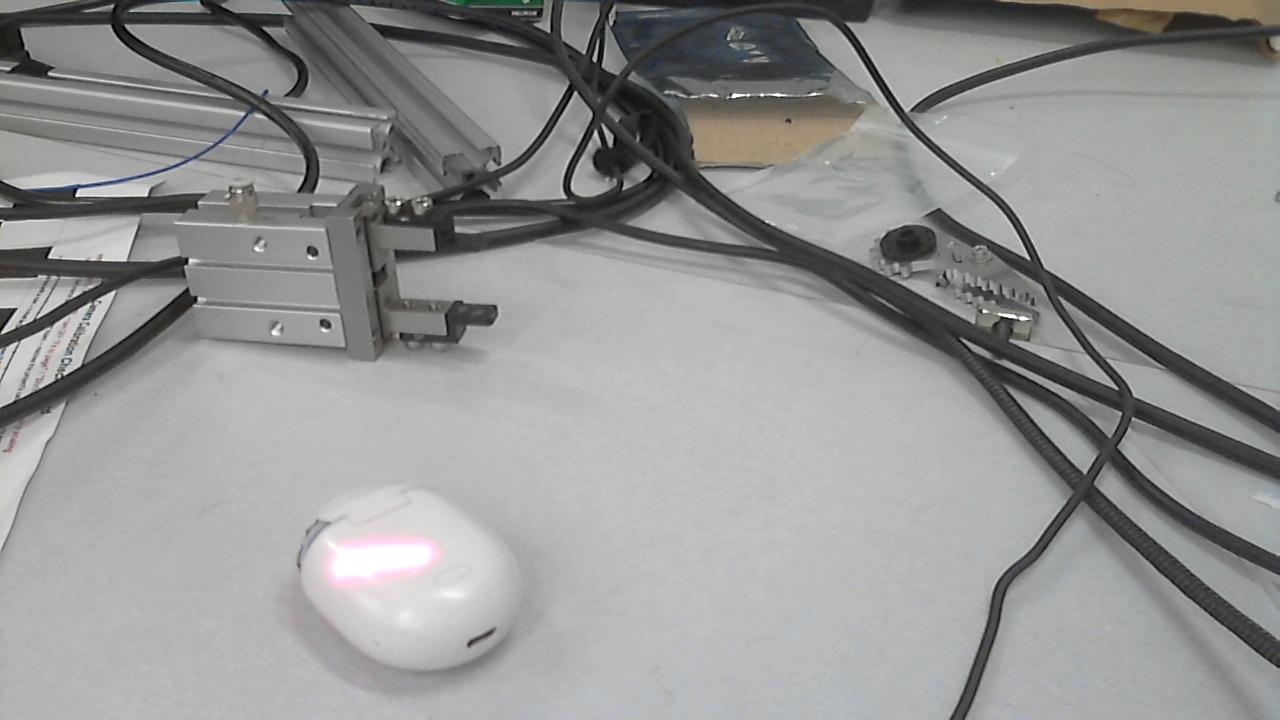Object wireless earbud charging case - Material plastic - Pdfname qzJIPQkli2jB: (308, 535, 446, 590)
